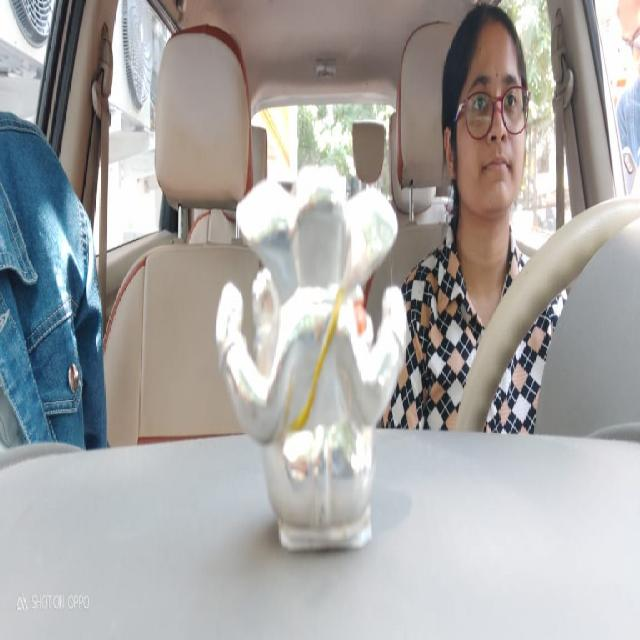person: (439, 0, 538, 234)
